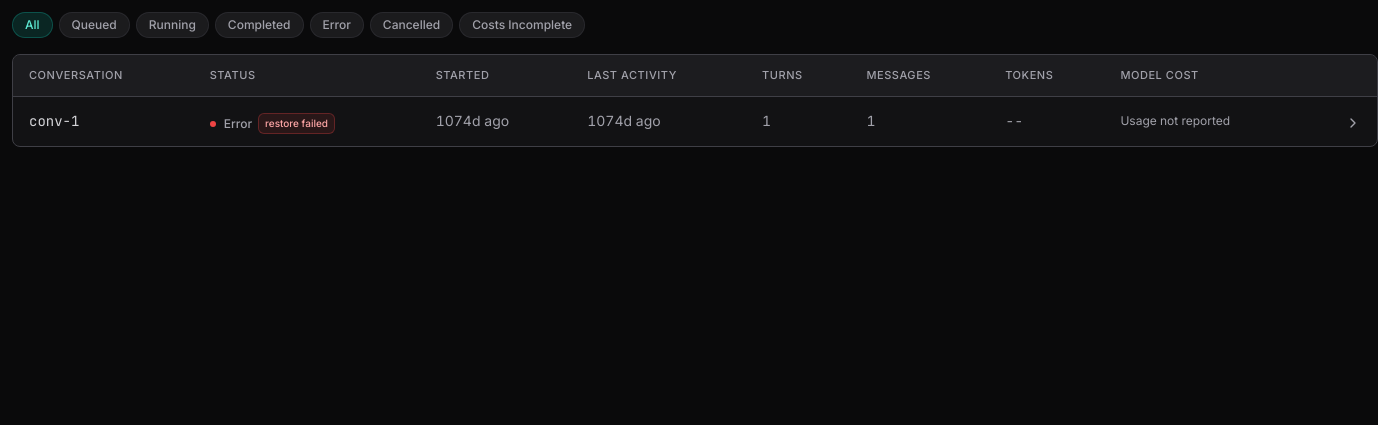
Scenario: AgentTurnsTab restore retry (ADR 013) › surfaces a final-failure toast when retry-restore POST fails
Click the row that starts with "conv-1" at (54, 121), box [13,96,1377,146]
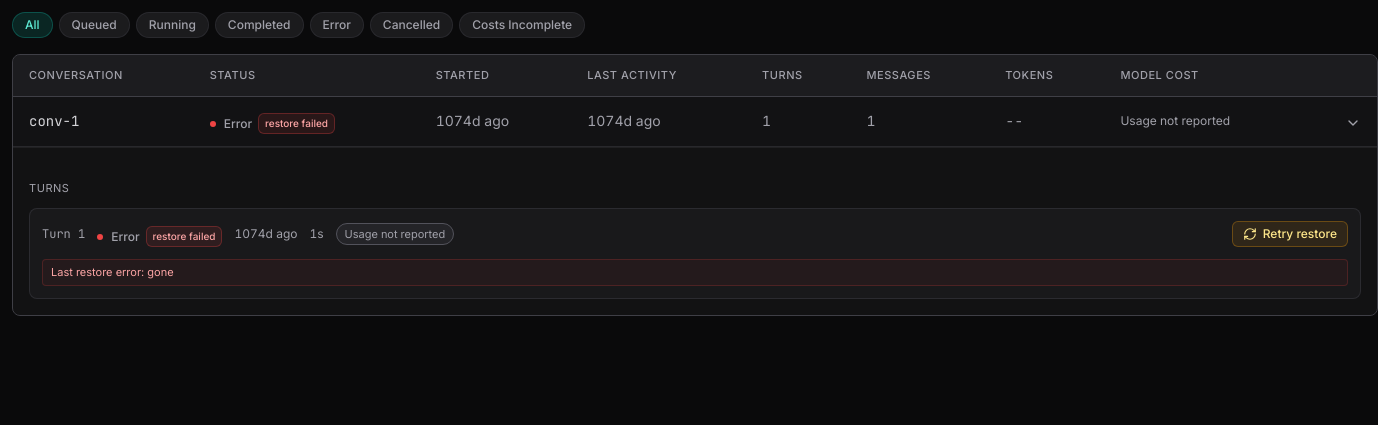
Click the button with test id "retry-restore-button" at (1290, 234), box [1232,221,1348,247]
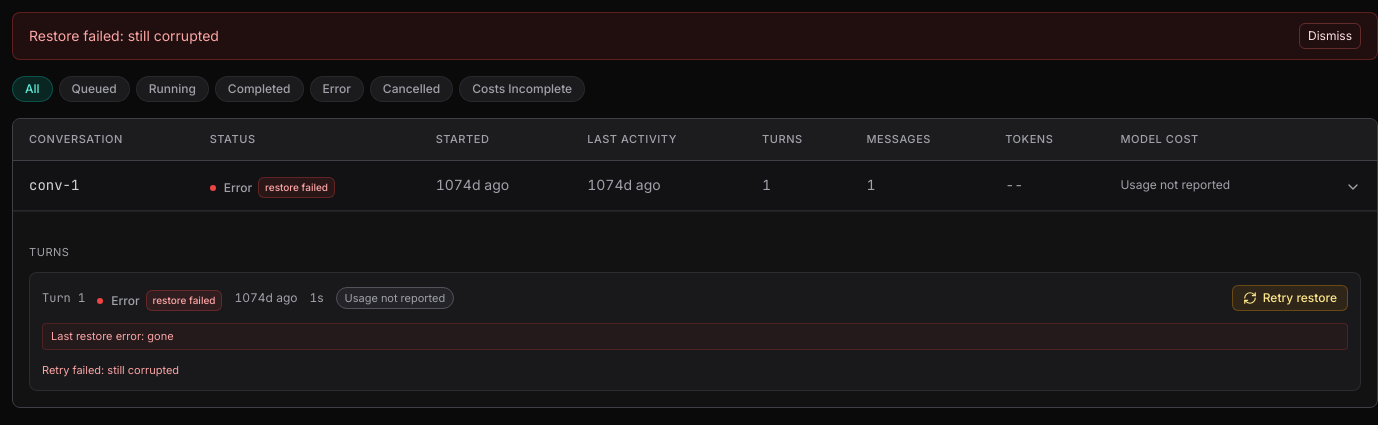
Expected: the message "Restore failed: still corrupted Dismiss" is shown, [12,12,1377,60]
Expected: the message with test id "restore-failure-toast" shows "still corrupted", [29,27,219,44]
